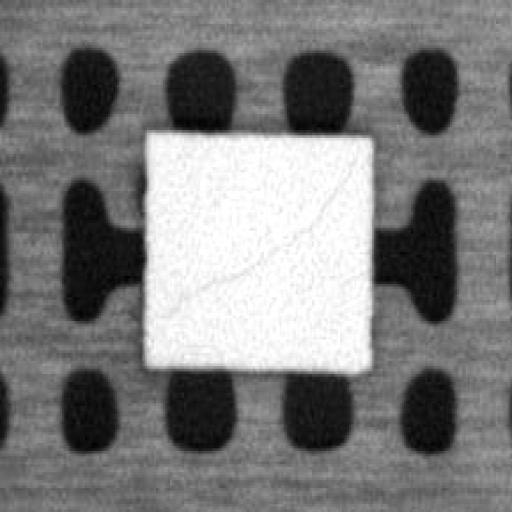DIE_CRACK: (170, 156, 360, 308)
